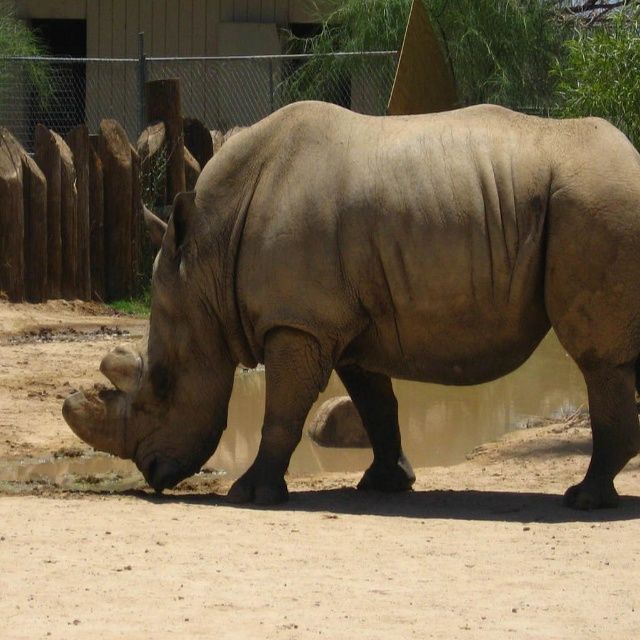Rhinoceros: (54, 96, 640, 511)
